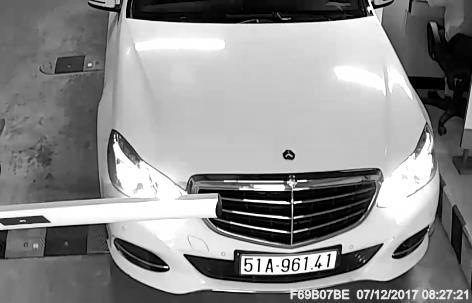License-plate: (231, 244, 341, 279)
